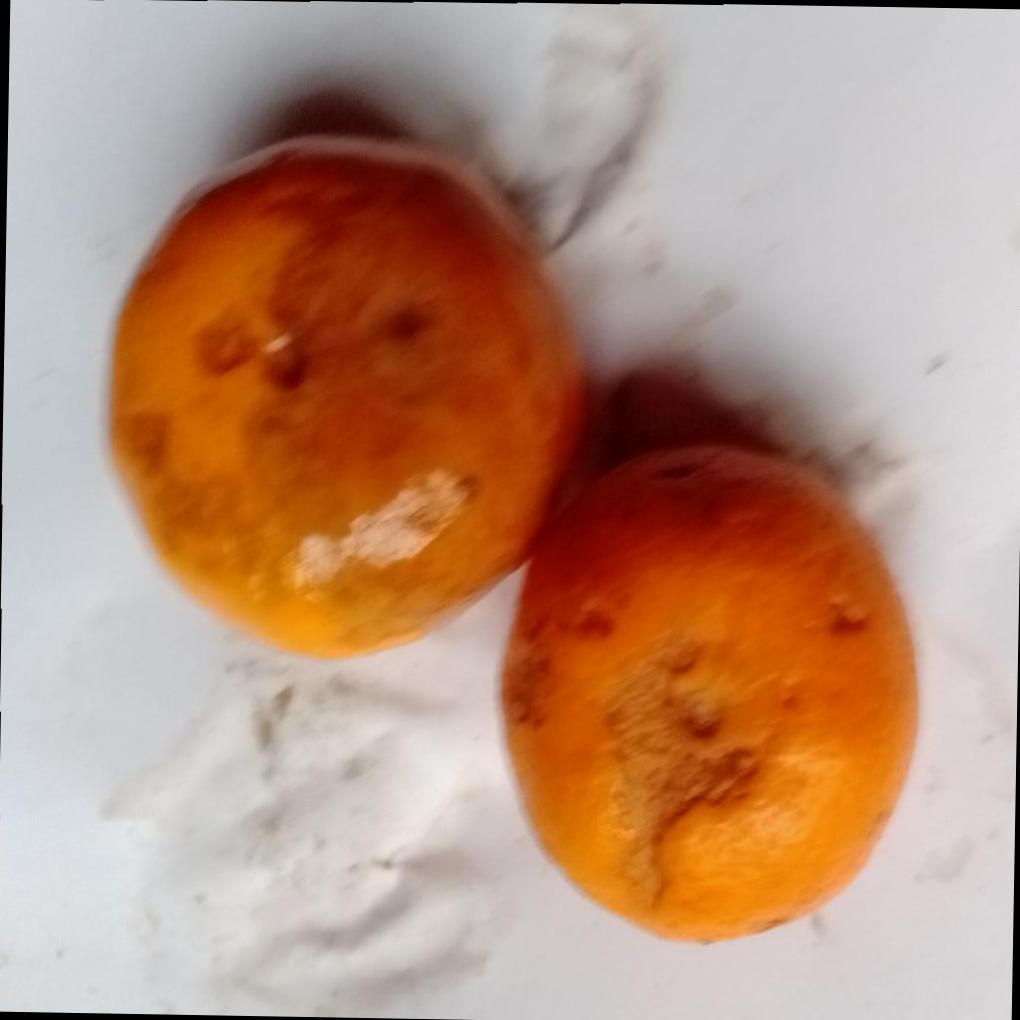FreshOrange: (100, 130, 919, 944)
